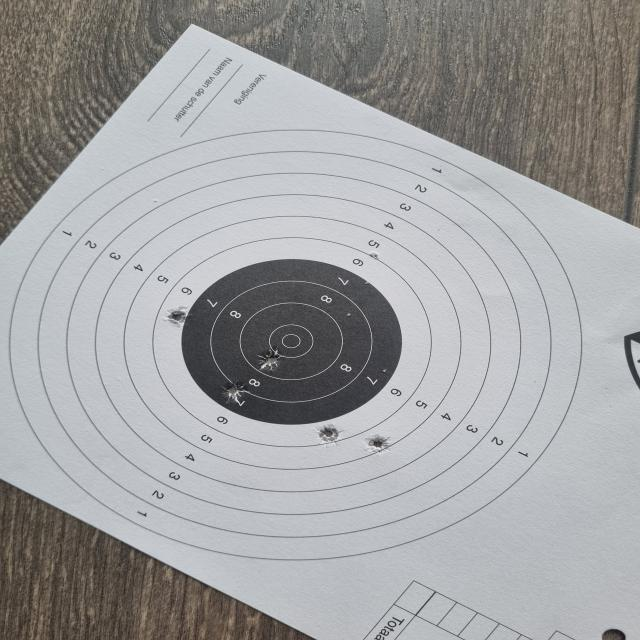2: (255, 348, 283, 372)
6: (368, 434, 390, 454)
7: (314, 424, 340, 444)
8: (164, 307, 188, 325)
9: (220, 381, 246, 402)
Black Contour: (182, 259, 403, 425)
Target: (9, 129, 584, 560)
